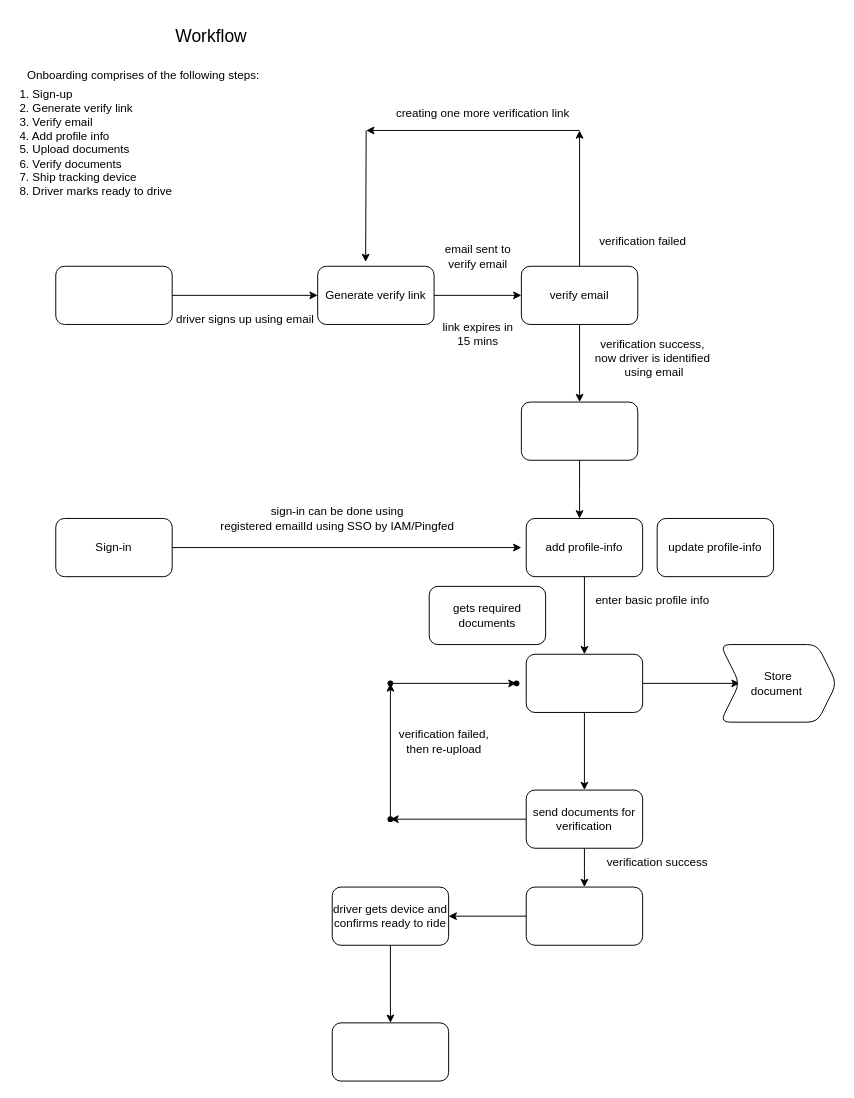
Image size: 854x1098. Some labels were removed from this diagram. The centre of each missing label's shape, as x and y in pixels:
driver state now updated as ready to drive: pixel 390 1051
driver verified: pixel 579 430
ship tracking device to driver: pixel 584 915
Sign-up: pixel 113 294
upload documents: pixel 584 682
